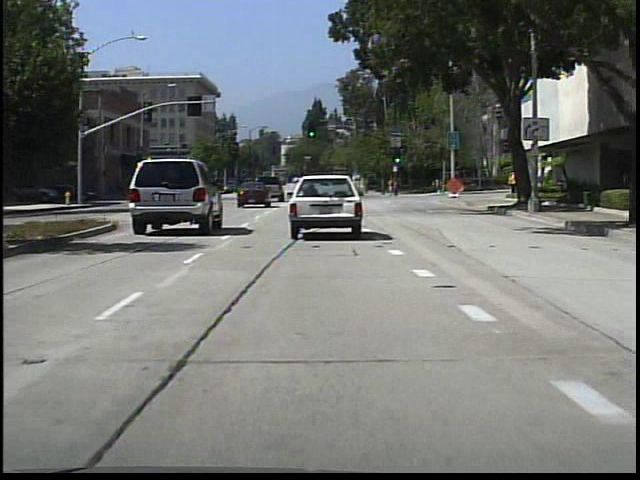person: (386, 172, 399, 200)
